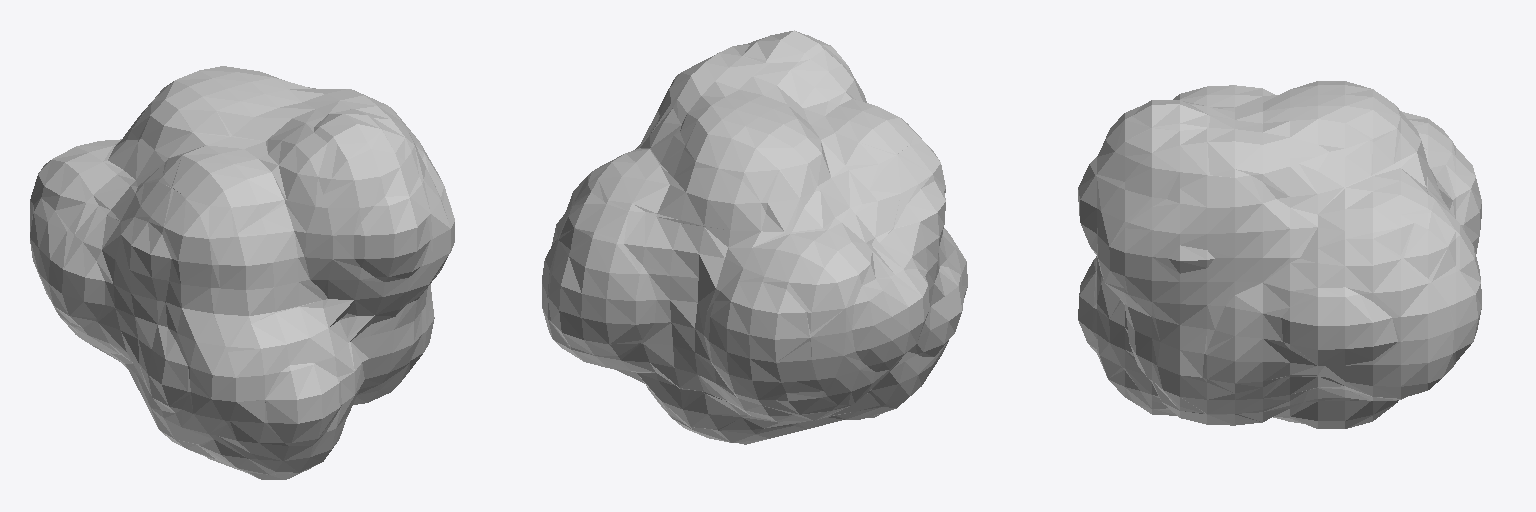
The model's file is 1pfk_1_cms.obj.
The picture shows the model from 3 angles: view 1: azimuth 30°, elevation 25°; view 2: azimuth 150°, elevation 25°; view 3: azimuth 270°, elevation 25°; orthographic projection.
Bounding box in the file's own units: 102 × 94.36 × 102.